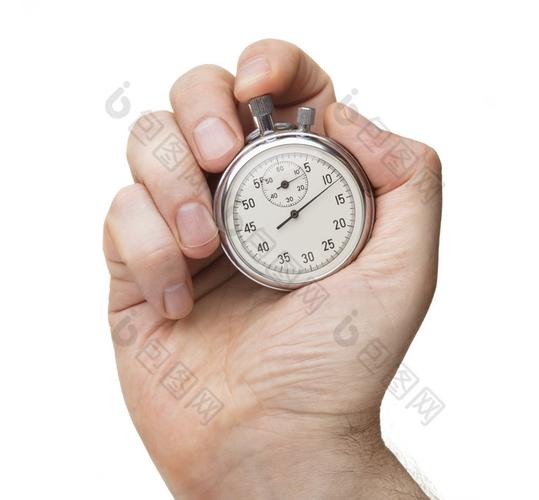no-phone: (96, 31, 445, 496)
